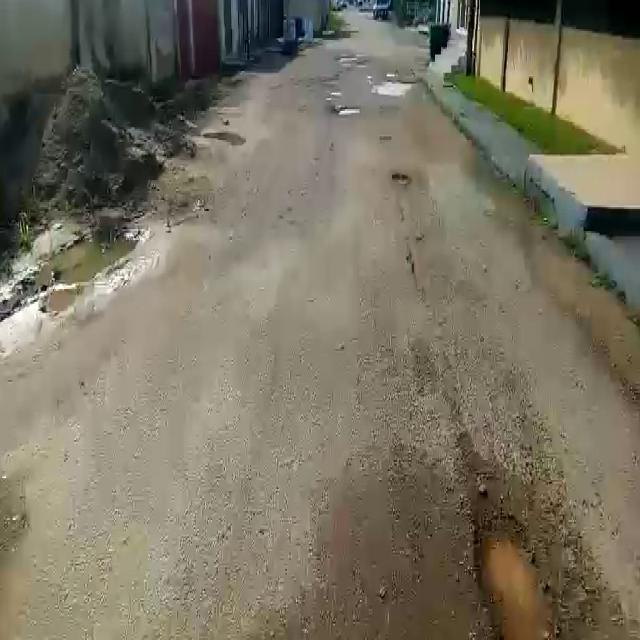pothole: (472, 517, 560, 638), (371, 79, 420, 97), (333, 105, 363, 117), (391, 172, 412, 187)
